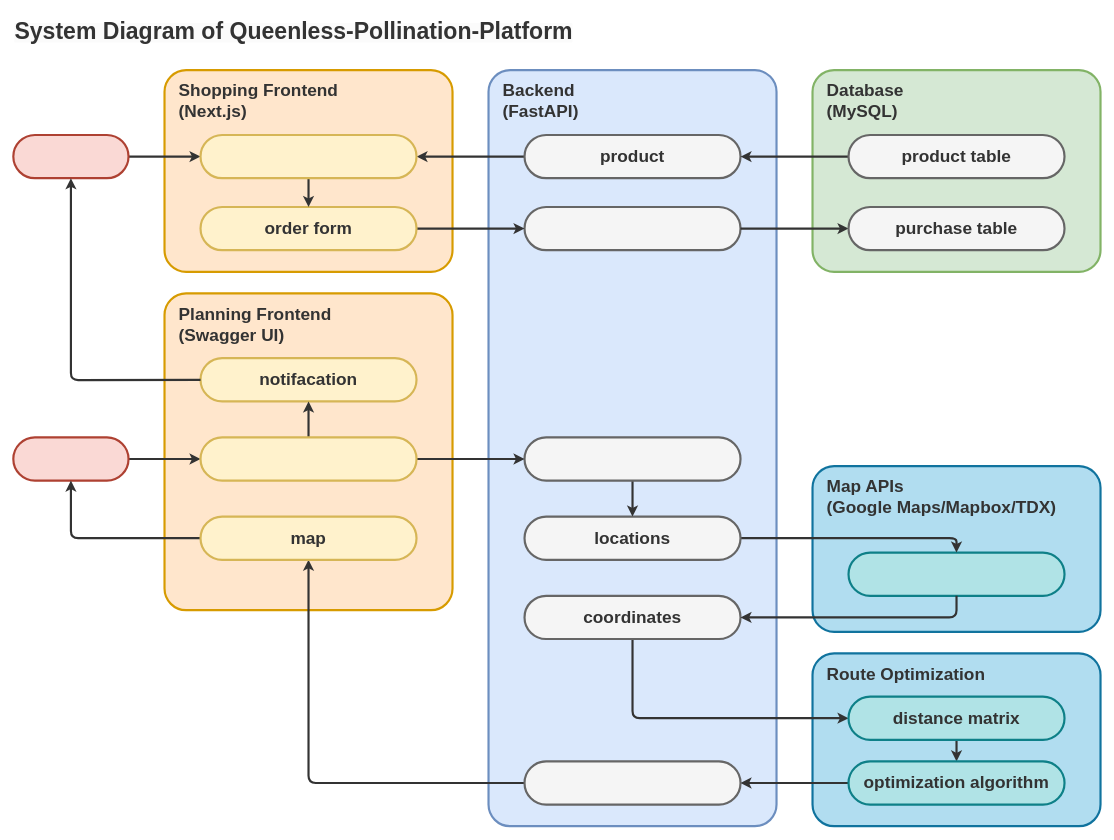
This 1114x840 diagram has some shape labels left out. Each missing label, with the centre of its shape:
"Admin" goes at (x=70, y=458).
"Customer" goes at (x=70, y=156).
"geocoding" goes at (x=956, y=574).
"optimized route" goes at (x=632, y=782).
"purchase" goes at (x=632, y=228).
"selection menu" goes at (x=308, y=458).
"ship" goes at (x=632, y=458).
"shopping cart" goes at (x=308, y=156).
